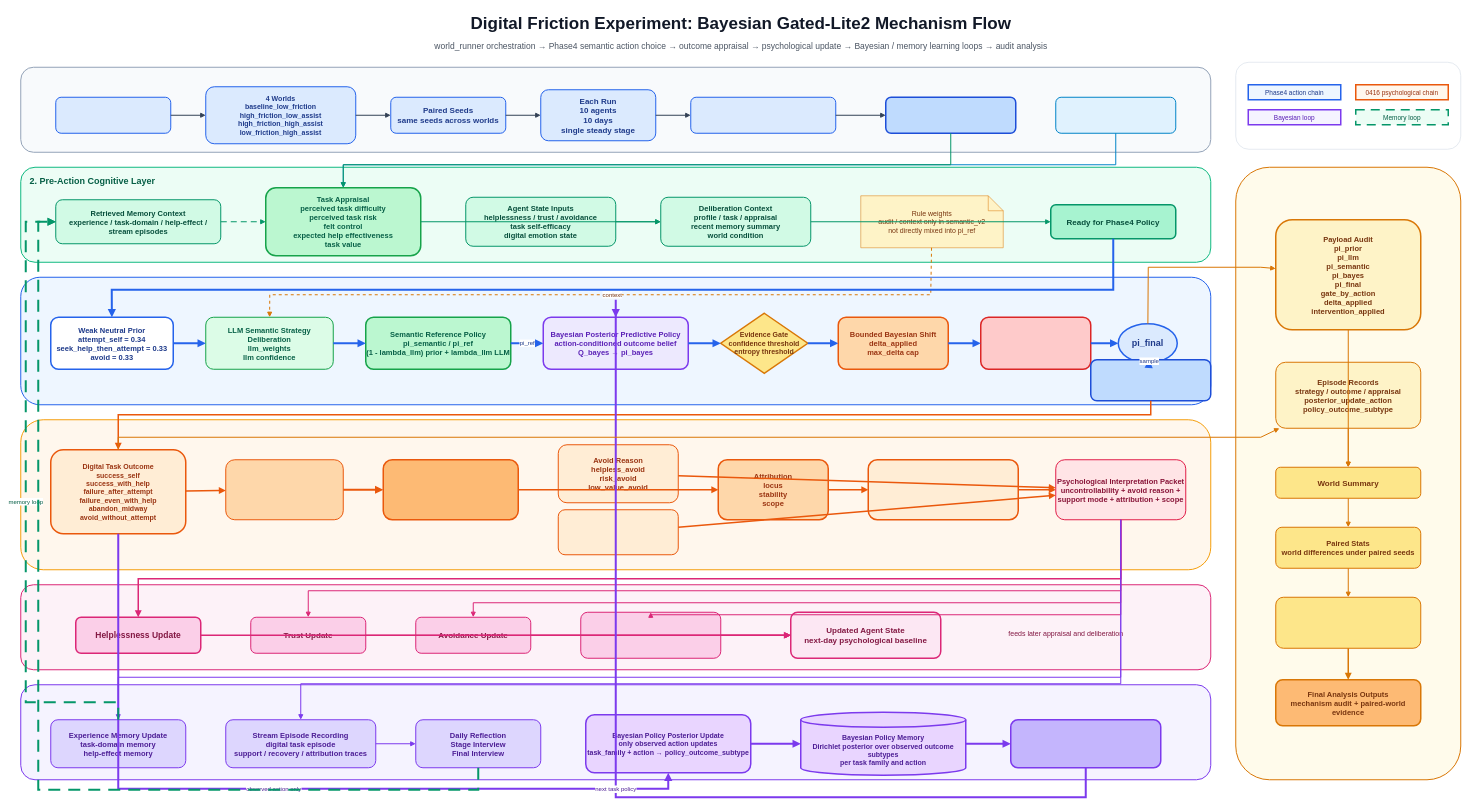
This 1470x811 diagram has some shape labels left out. Here are the shapes that lost their labels. From the top down, the box of each, then its label:
(55, 96, 171, 134): world_runner
(20, 66, 1211, 152): 1. Experiment / World Layer
(690, 96, 836, 134): Task Windows new or pending digital task surfaces
(885, 96, 1016, 134): Digital Task Appears
(1055, 96, 1176, 134): World Context friction / assistance condition
(1235, 62, 1461, 149): Highlighted relations
(20, 276, 1211, 405): 3. Phase4 Action-Choice Mechanism
(980, 316, 1091, 370): Safety Guard probability floor normalization / fallback
(1090, 359, 1211, 401): Sampled Action attempt_self seek_help_then_attempt avoid
(225, 459, 344, 520): Event Appraisal outcome meaning emotion appraisal post-outcome context
(382, 459, 519, 520): Uncontrollability Calibration event_level_uncontrollability 0 / 1 / 2
(867, 459, 1019, 520): Scope Spillover / Generalization task-family and broader digital domain
(1235, 166, 1461, 780): 7. Audit / Analysis Layer
(20, 419, 1211, 570): 4. Outcome, Appraisal, and Psychological Interpretation
(558, 509, 678, 555): Support Mode enabling_support substituting_support
(20, 584, 1211, 670): 5. State Update Layer
(580, 612, 721, 658): Digital Emotion Update anxiety / confidence / frustration
(1275, 596, 1421, 648): Plots helplessness / success / attempt help-seek / negative feedback / abandon
(20, 684, 1211, 780): 6. Memory and Learning Layer
(1010, 719, 1161, 768): Next Action Policy Evidence confidence_by_action posterior_entropy_by_action
